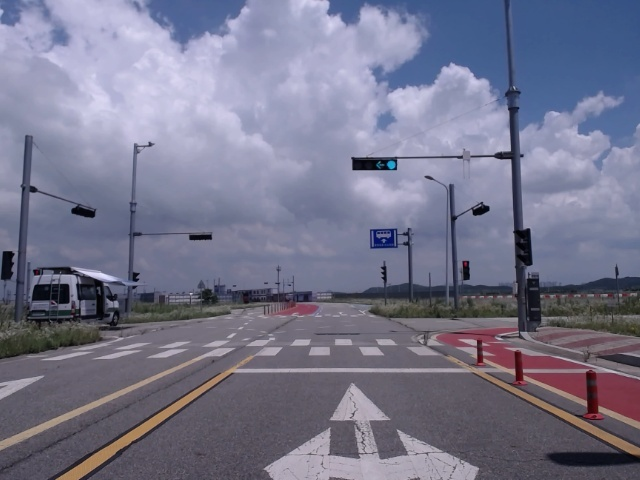all_green_4: (352, 159, 396, 172)
